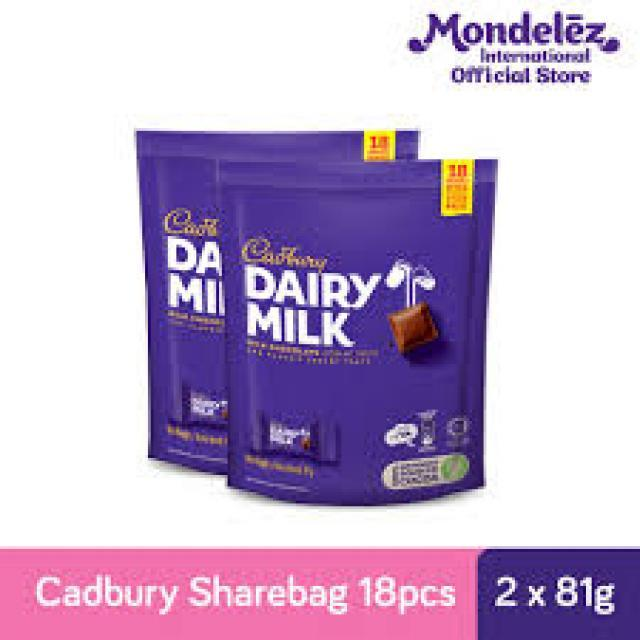cadbury_chocolate: (137, 130, 418, 490), (223, 162, 492, 485)
